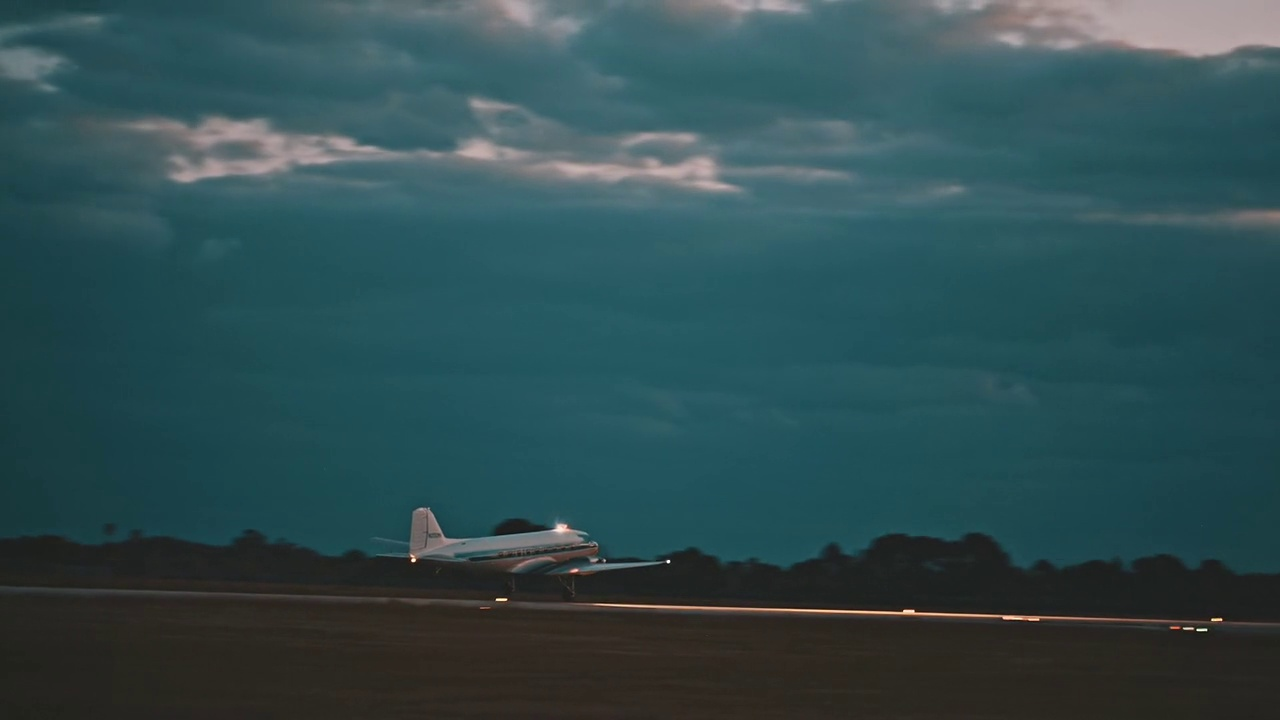plane: (373, 506, 670, 603)
